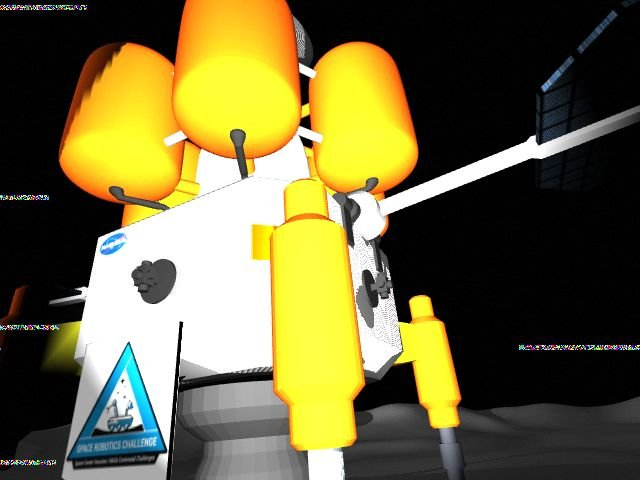basemarker: (65, 340, 167, 471)
